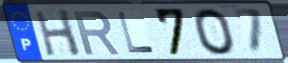7: (152, 7, 187, 58), (231, 7, 265, 56)
H: (32, 8, 84, 58)
L: (116, 11, 157, 55)
O: (191, 7, 238, 57)
R: (71, 10, 123, 57)
